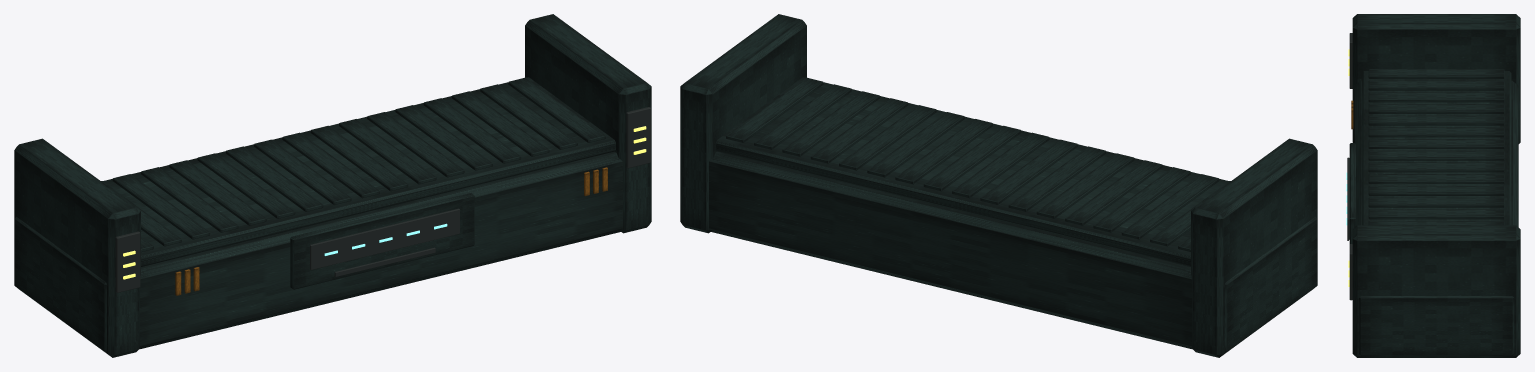
The model's file is THStage_ExtractionLift.fbx.
The picture shows the model from 3 angles, left to right: view 1: azimuth 30°, elevation 25°; view 2: azimuth 150°, elevation 25°; view 3: azimuth 270°, elevation 25°; orthographic projection. The views are drawn at different scales.
Parts seen in each view (by area): view 1: THStage_ExtractionLift; view 2: THStage_ExtractionLift; view 3: THStage_ExtractionLift.
Part boxes in pixels (x1=…): THStage_ExtractionLift: x1=14, y1=14, x2=651, y2=357; THStage_ExtractionLift: x1=680, y1=14, x2=1317, y2=357; THStage_ExtractionLift: x1=1346, y1=14, x2=1520, y2=357.
Size of the model in its own units: 3 by 0.76 by 0.975.
4 materials, 1 textured.
